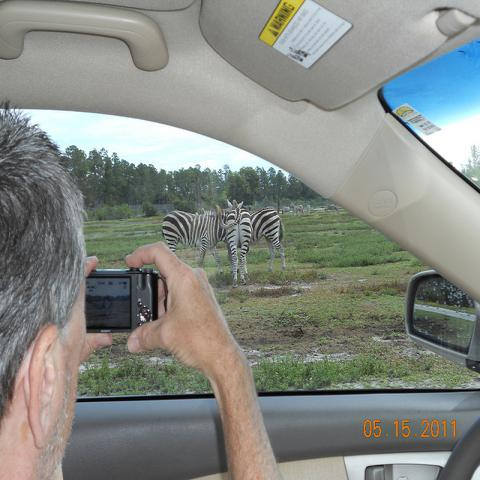car: (1, 1, 479, 468)
